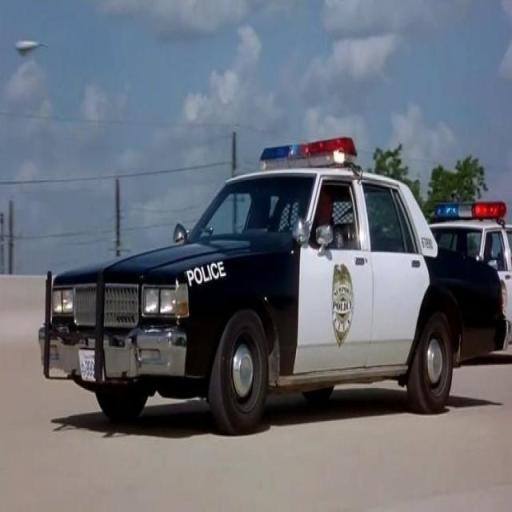Ambulance: (36, 136, 508, 427)
